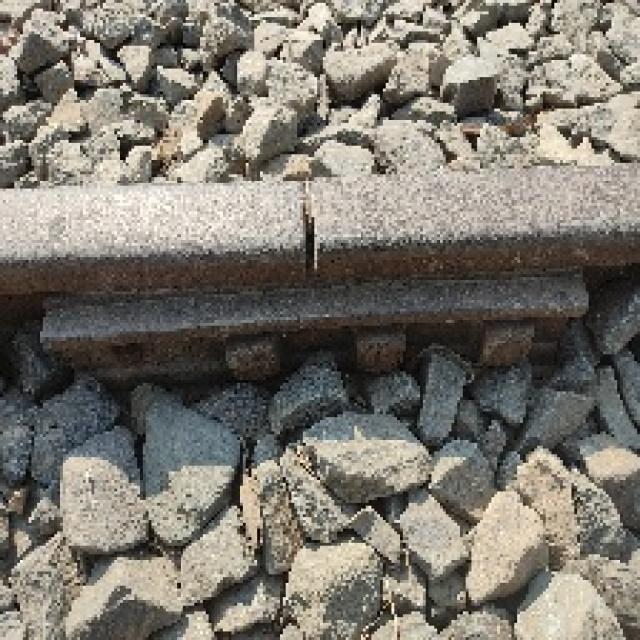Defective Joint: (43, 274, 586, 377)
